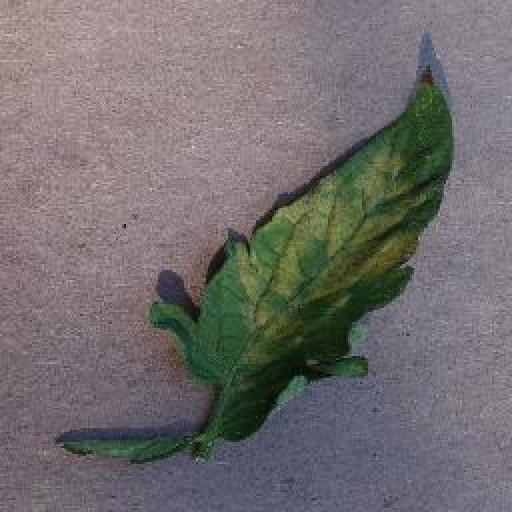disease_tomato: (152, 68, 458, 436)
